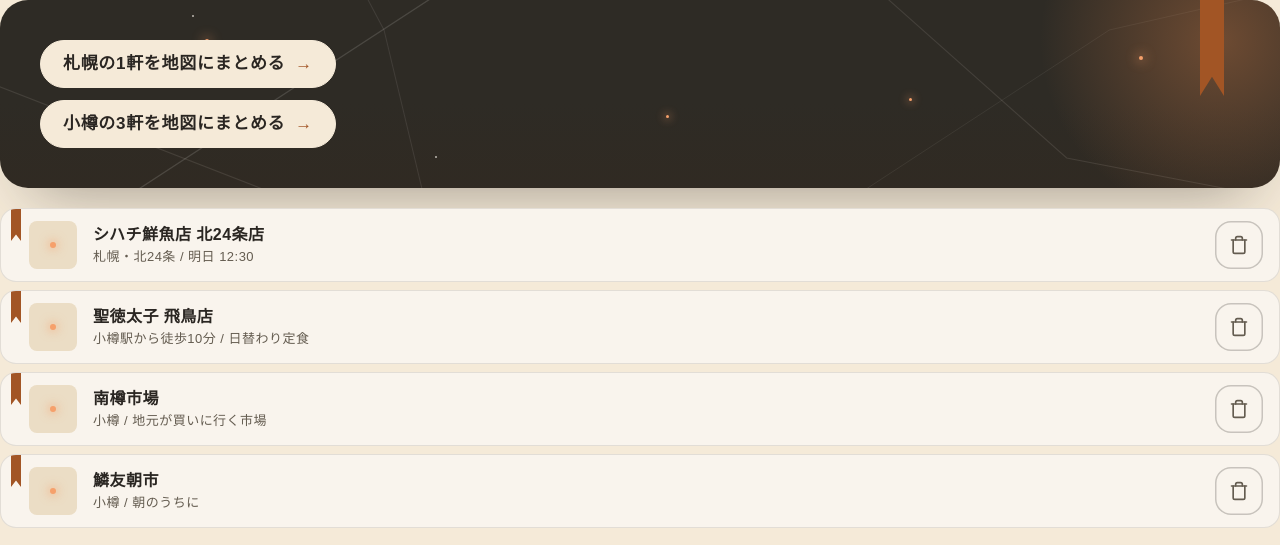
Test case: BookmarkList › 押しただけでは外れない（確定パネルが開くだけ）
Click the button named "シハチ鮮魚店 北24条店を栞から外す". click: [1239, 245]
box: top-left (1215, 221), bottom-right (1263, 269)
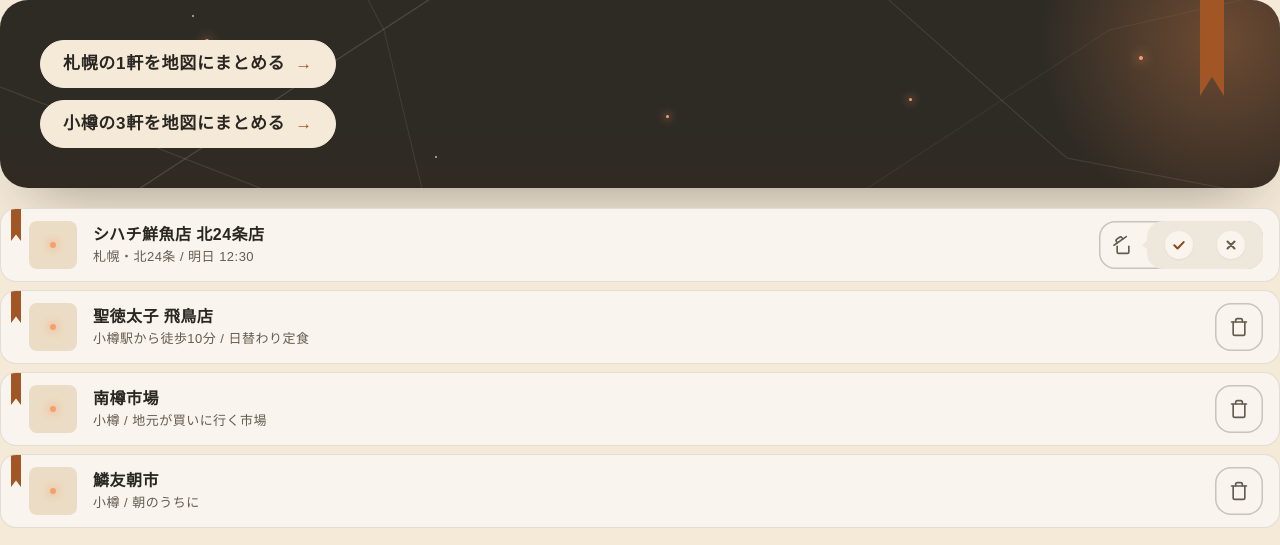
Expected: the text "シハチ鮮魚店 北24条店" is shown, top-left (93, 226), bottom-right (264, 243)
Now the button named "外す" is shown, box top-left (1157, 223), bottom-right (1201, 267)
Now the button named "やめる" is shown, box top-left (1209, 223), bottom-right (1253, 267)
